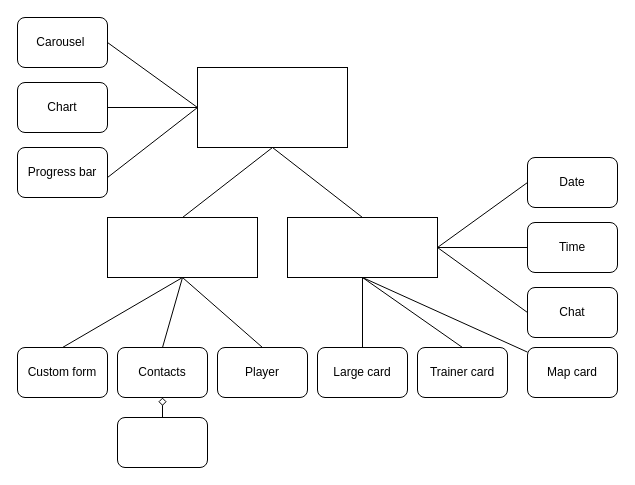
The diagram is 635 pixels wide and 485 high, and some of its shapes have lost their labels. Each missing label, with the centre of its shape:
"Chat View" goes at point 362,247.
"Contact" goes at point 162,442.
"Contact View" goes at point 182,247.
"Home View" goes at point 272,107.
